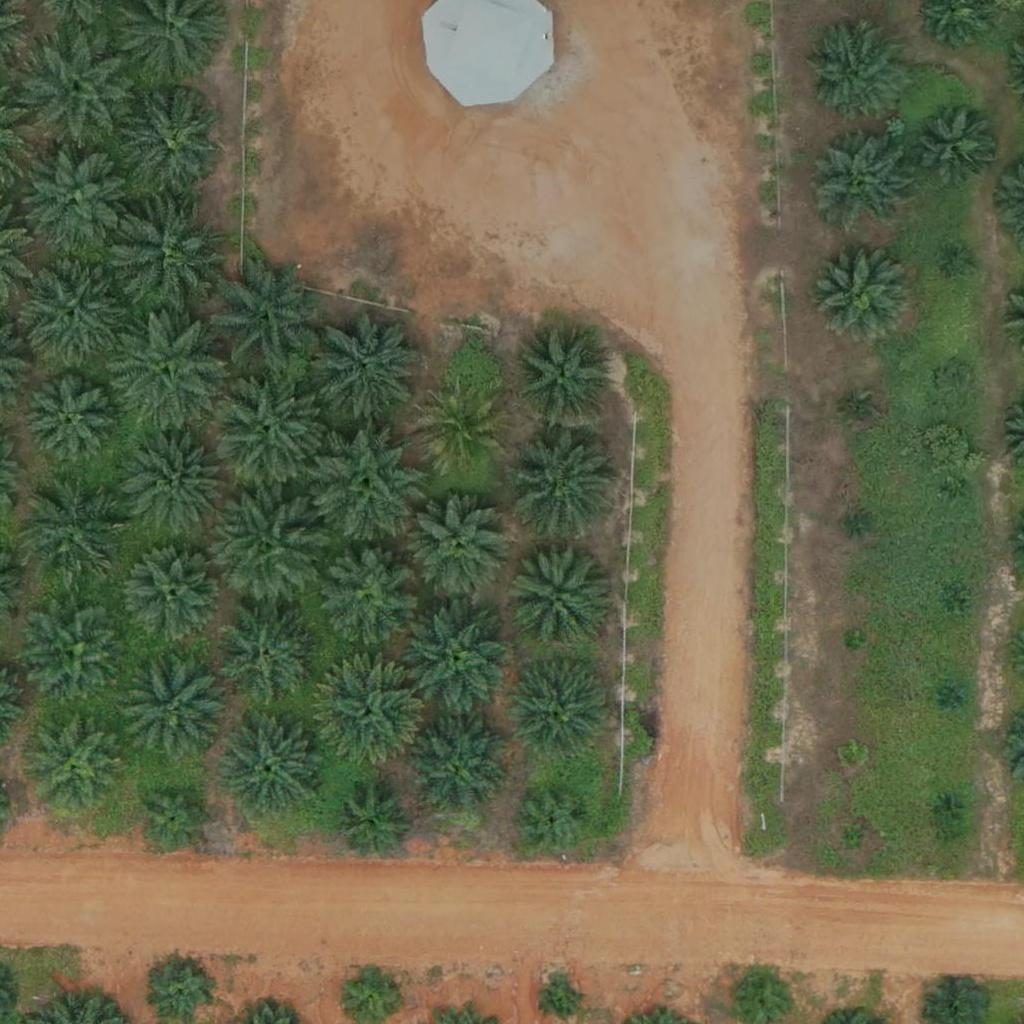Kelapa_Sawit: (314, 311, 427, 425), (312, 427, 425, 541), (212, 262, 325, 376), (401, 600, 514, 713), (21, 33, 133, 147), (212, 368, 324, 482), (115, 201, 227, 315), (314, 661, 426, 774), (509, 426, 621, 539), (209, 493, 321, 606), (112, 315, 224, 428), (16, 260, 128, 373), (18, 145, 130, 258), (803, 20, 903, 121), (811, 131, 911, 232), (809, 239, 909, 340), (511, 326, 611, 427), (408, 718, 508, 819), (217, 609, 317, 710), (221, 716, 321, 817), (123, 432, 223, 533), (124, 545, 224, 646), (124, 654, 224, 755), (23, 477, 123, 578), (25, 603, 125, 704), (25, 715, 125, 816), (123, 93, 223, 193), (506, 546, 606, 646), (511, 660, 611, 760), (412, 499, 512, 599), (318, 549, 418, 649), (417, 389, 505, 477), (912, 101, 999, 189), (25, 379, 112, 467), (517, 782, 592, 858), (335, 788, 410, 863), (139, 782, 214, 857), (937, 364, 975, 402), (545, 982, 582, 1020), (950, 249, 975, 274), (946, 479, 971, 504), (940, 595, 965, 620), (846, 399, 871, 424), (846, 512, 871, 537), (842, 630, 867, 655), (838, 742, 863, 767), (841, 826, 866, 851), (941, 684, 966, 709), (934, 794, 959, 819)
